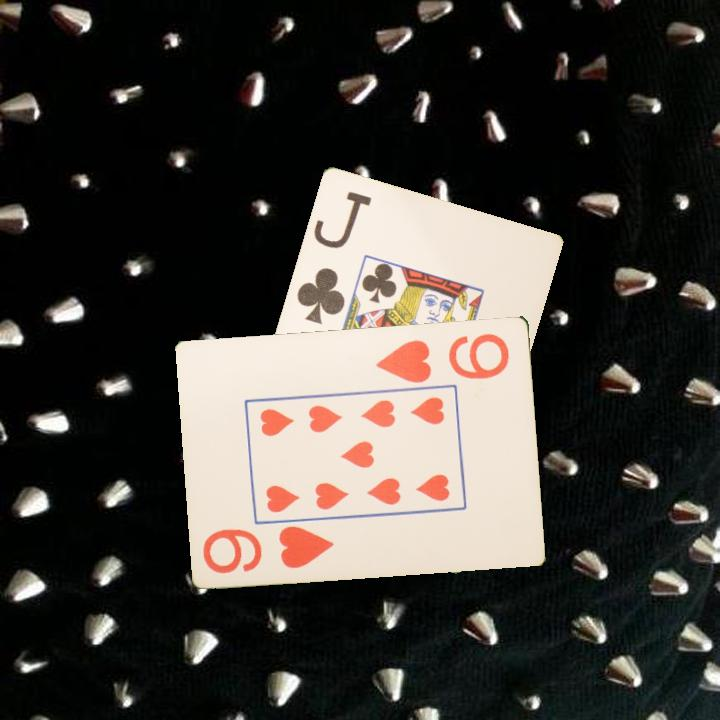9h: (372, 329, 513, 385), (199, 521, 337, 577)
Jc: (292, 187, 374, 326)
